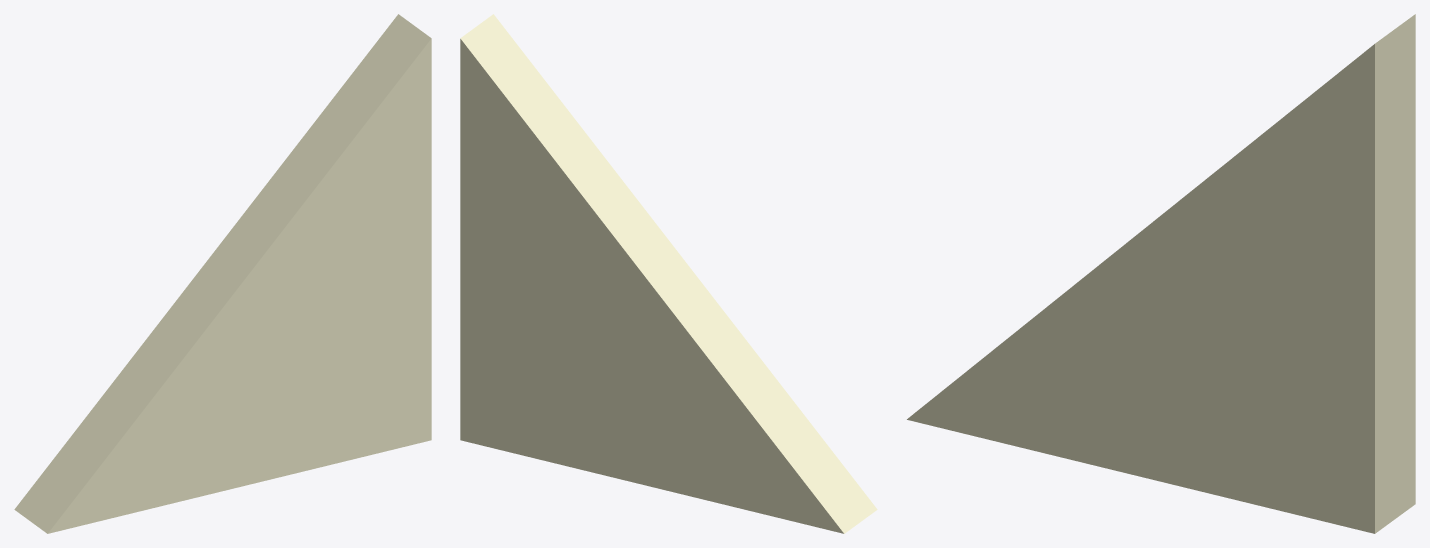
File: Wall_Roof_45.glb
3 renders of one model, left to right at view 1: azimuth 30°, elevation 25°; view 2: azimuth 150°, elevation 25°; view 3: azimuth 330°, elevation 25°, orthographic. The views are drawn at different scales.
Visible parts, largest first — view 1: Wall Roof 45; view 2: Wall Roof 45; view 3: Wall Roof 45.
Boxes of the visible parts, x1,y1,x2,y2 form: Wall Roof 45: [14, 14, 431, 533]; Wall Roof 45: [460, 14, 877, 533]; Wall Roof 45: [907, 14, 1415, 533].
Size of the model in its own units: 2 by 2 by 0.3.
